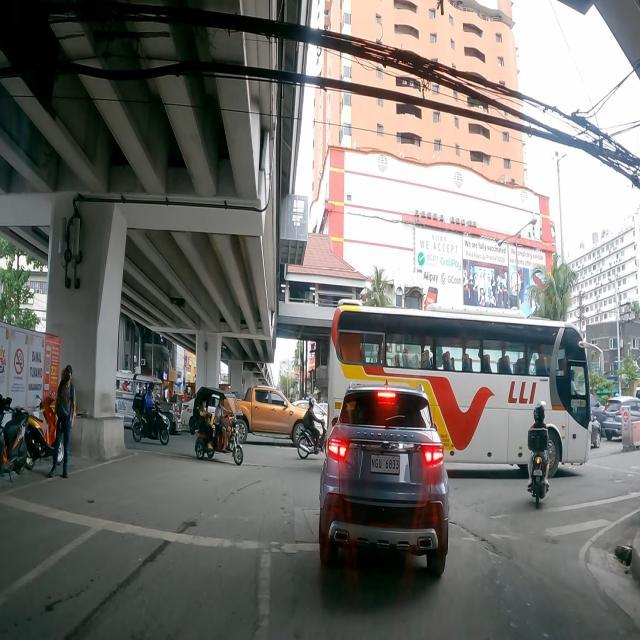bus: (328, 300, 592, 478)
car: (318, 382, 449, 576), (238, 386, 306, 446), (602, 396, 640, 439)
jeepney: (116, 371, 182, 434), (173, 383, 196, 413)
motorcycle: (24, 388, 64, 469), (130, 380, 170, 446), (0, 394, 29, 482), (528, 401, 550, 507), (296, 397, 327, 459)
tricycle: (192, 387, 243, 465)
